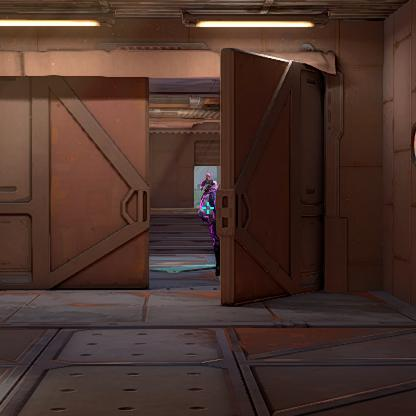enemyBody: (210, 193, 216, 207), (205, 182, 212, 191)
enemyHead: (207, 175, 210, 181)
